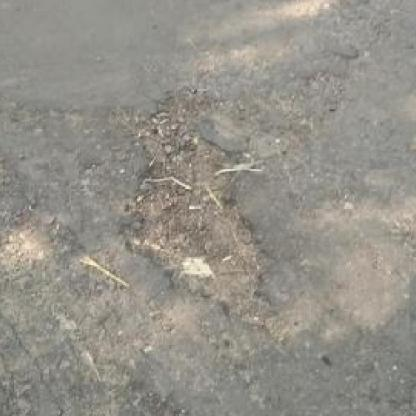pothole: (113, 85, 283, 329)
